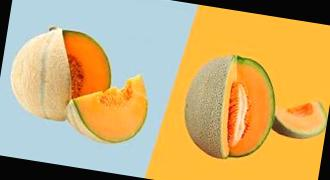Melon Ripe: (178, 48, 282, 166), (271, 94, 330, 142)
